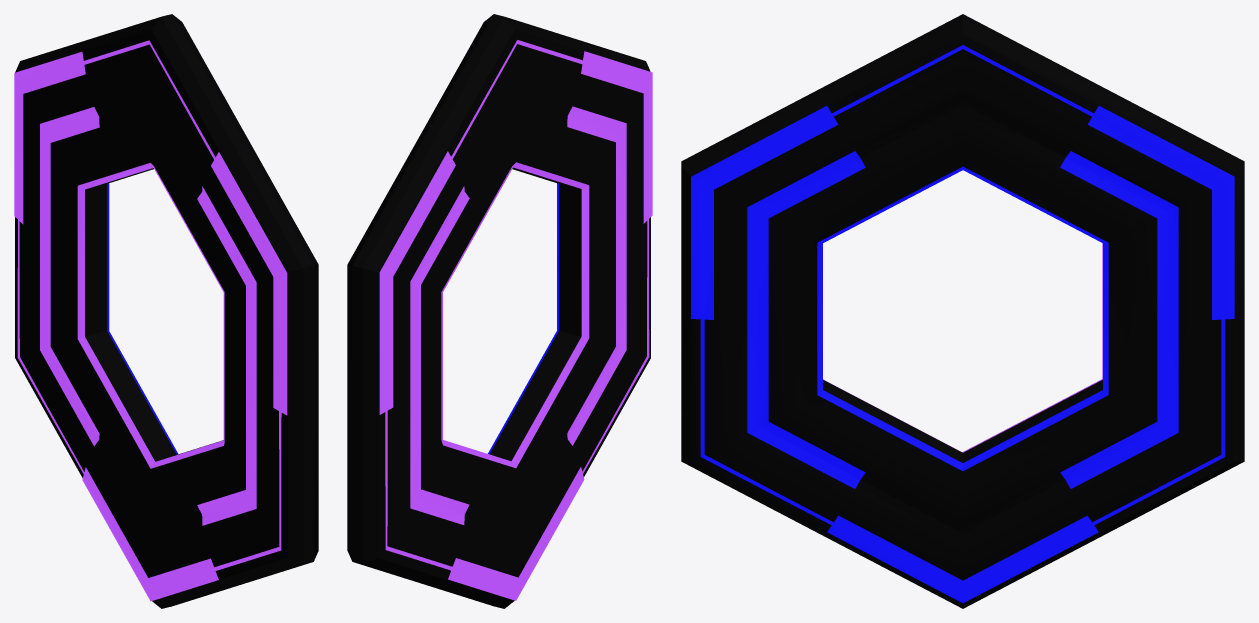
File: roulette-neon-transformed.glb
3 views of the same model, side by side, from view 1: azimuth 30°, elevation 25°; view 2: azimuth 150°, elevation 25°; view 3: azimuth 270°, elevation 25° (orthographic).
Visible parts, largest first — view 1: Tube004_14 - Default_0.001; view 2: Tube004_14 - Default_0.001; view 3: Tube004_14 - Default_0.001.
Boxes of the visible parts, box(x1,y1,x2,y2) form: Tube004_14 - Default_0.001: box(14, 14, 318, 608); Tube004_14 - Default_0.001: box(347, 14, 652, 608); Tube004_14 - Default_0.001: box(681, 14, 1244, 608).
Bounding box in the file's own units: 0.9463 × 13.75 × 11.91.
